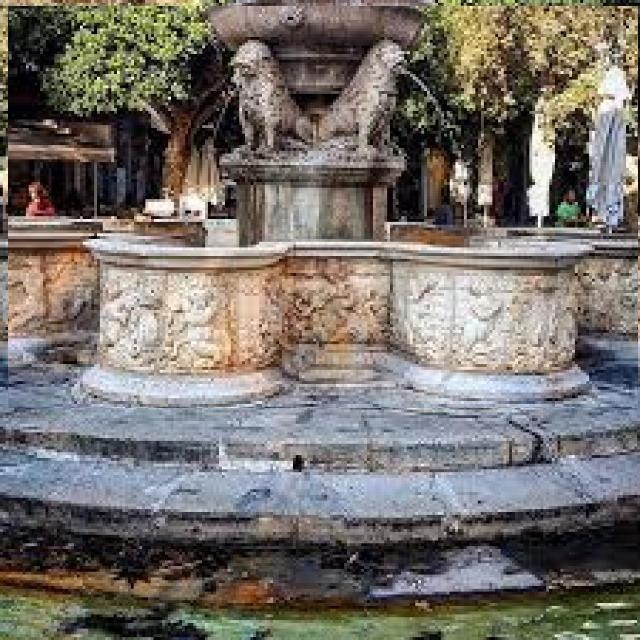Liontaria: (9, 7, 639, 409)
